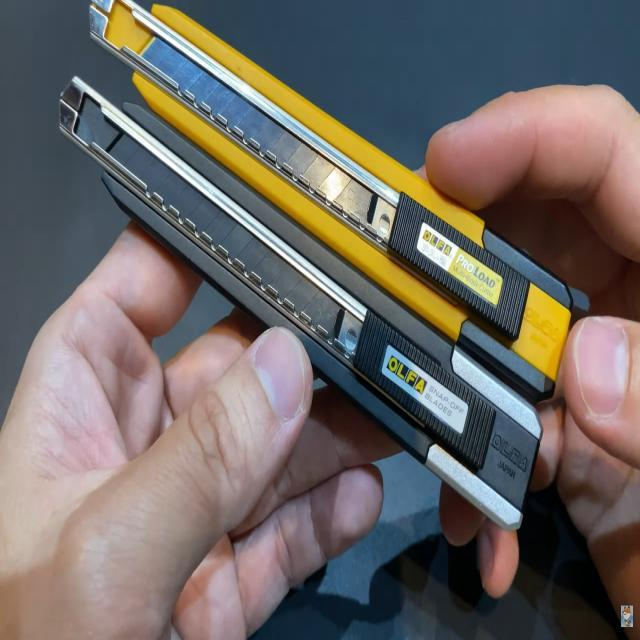cutter: (42, 0, 640, 607)
